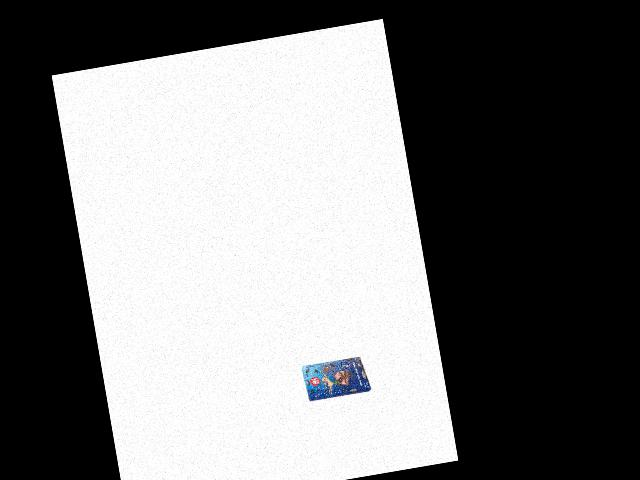chocolate: (299, 350, 372, 406)
